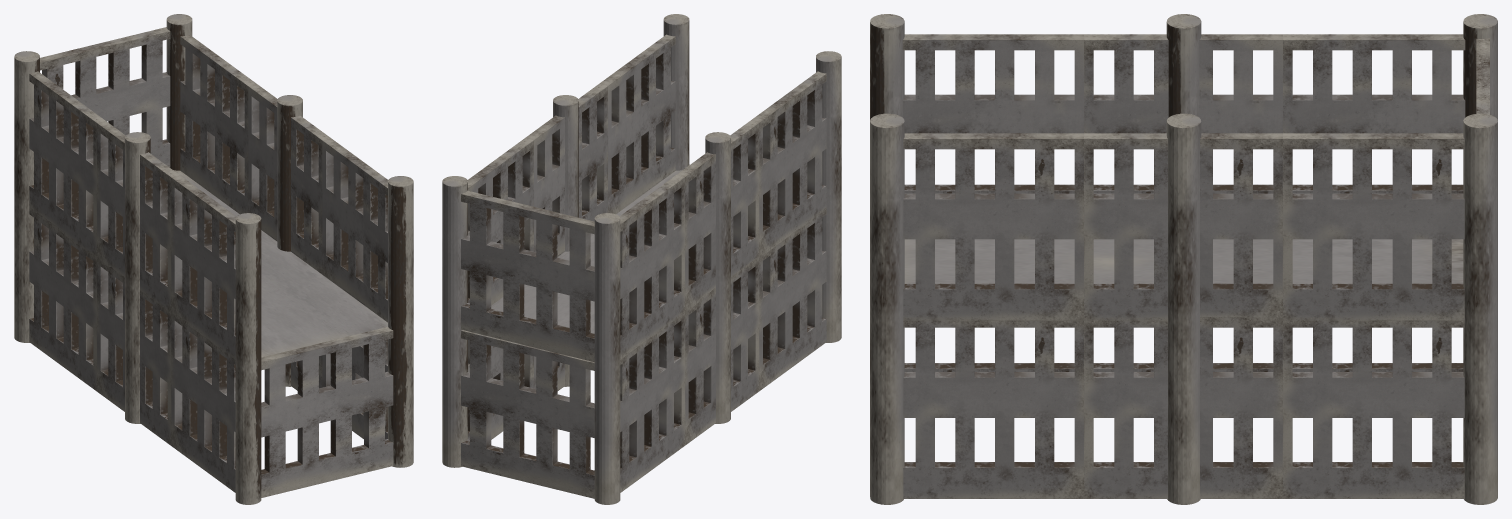
File: Building 1_fine.fbx
3 views of the same model, side by side, from view 1: azimuth 30°, elevation 25°; view 2: azimuth 150°, elevation 25°; view 3: azimuth 270°, elevation 25° (orthographic). The views are drawn at different scales.
Parts seen in each view (by area): view 1: Cube.029; view 2: Cube.029; view 3: Cube.029.
Boxes of the visible parts, left/top/right/bottom form: Cube.029: left=14, top=14, right=413, bottom=504; Cube.029: left=442, top=14, right=841, bottom=504; Cube.029: left=870, top=14, right=1497, bottom=504.
Bounding box in the file's own units: 976 × 1502 × 2268.
1 material, 1 textured.
